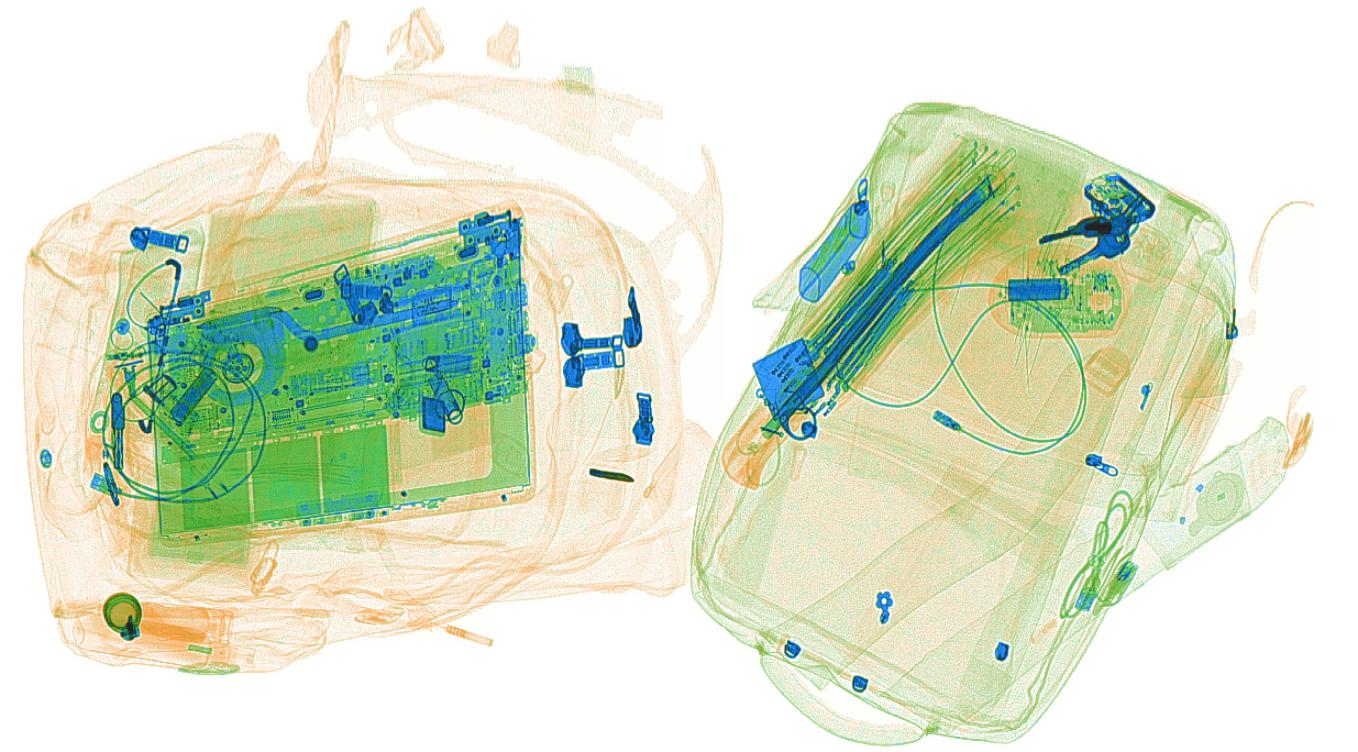battery: (164, 365, 219, 425), (1005, 274, 1071, 304)
plasticBottleWithaNozzle: (70, 608, 258, 671)
